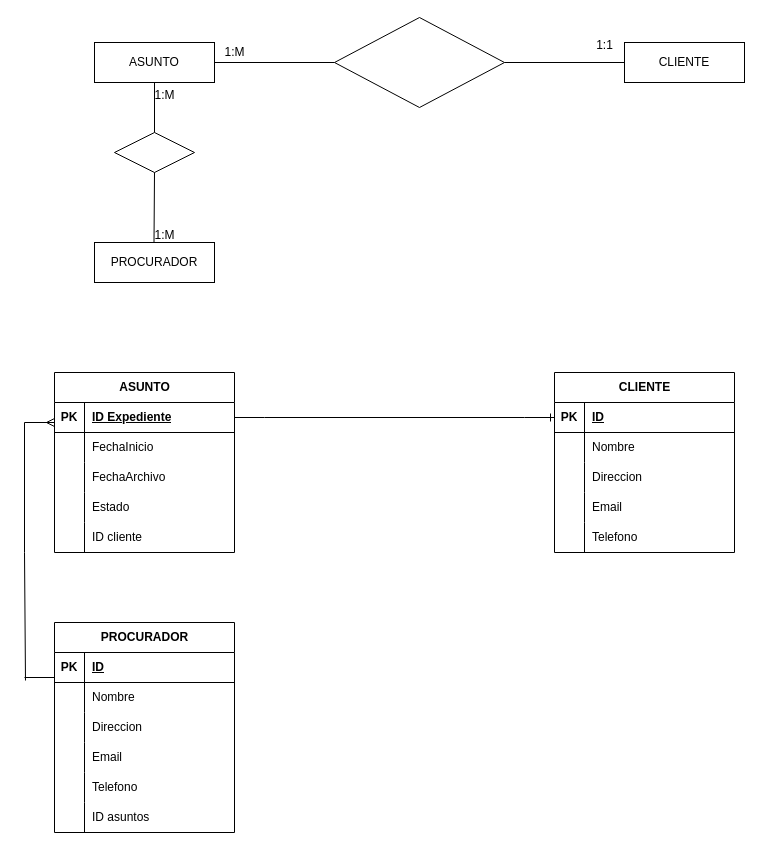
This 762x850 diagram has some shape labels left out. Each missing label, with the centre of its shape:
"CORRESPONDE" belongs at point 419,62.
"lleva" belongs at point 154,152.
